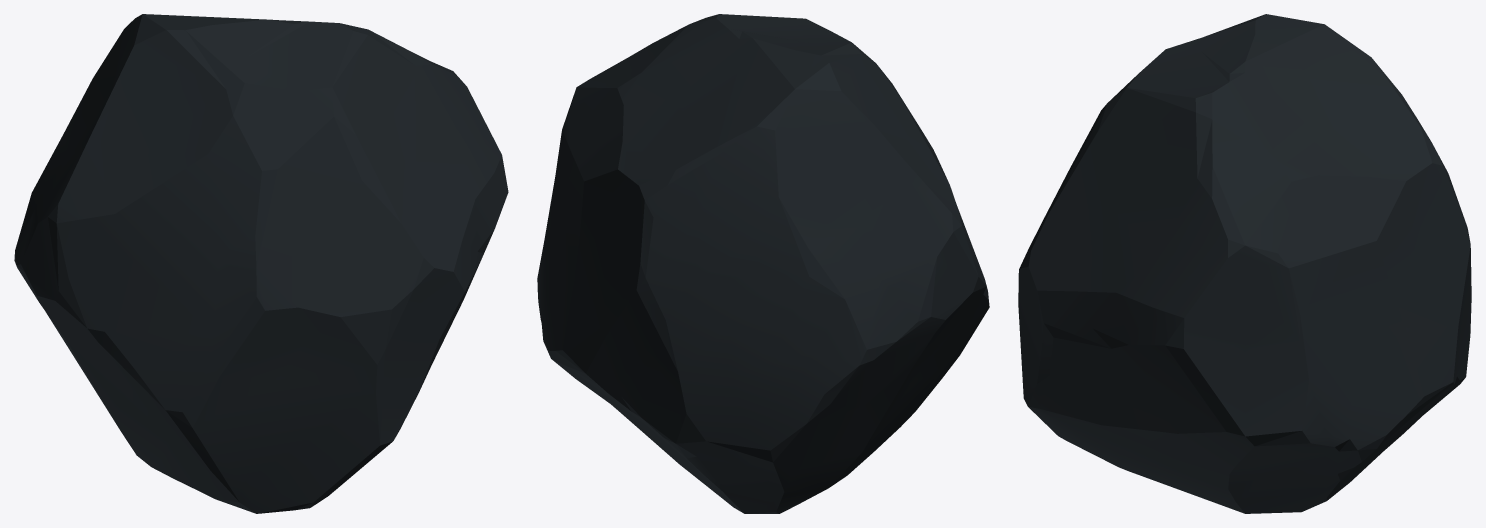
The model's file is Asteroid_m_10.FBX.
The picture shows the model from 3 angles, left to right: view 1: azimuth 30°, elevation 25°; view 2: azimuth 150°, elevation 25°; view 3: azimuth 270°, elevation 25°; orthographic projection. The views are drawn at different scales.
Visible parts, largest first — view 1: Asteroid_m_10; view 2: Asteroid_m_10; view 3: Asteroid_m_10.
Part boxes in pixels (<box>): Asteroid_m_10: <box>14,14,508,513</box>; Asteroid_m_10: <box>537,14,989,513</box>; Asteroid_m_10: <box>1018,14,1471,513</box>.
Size of the model in its own units: 800 by 828 by 744.
